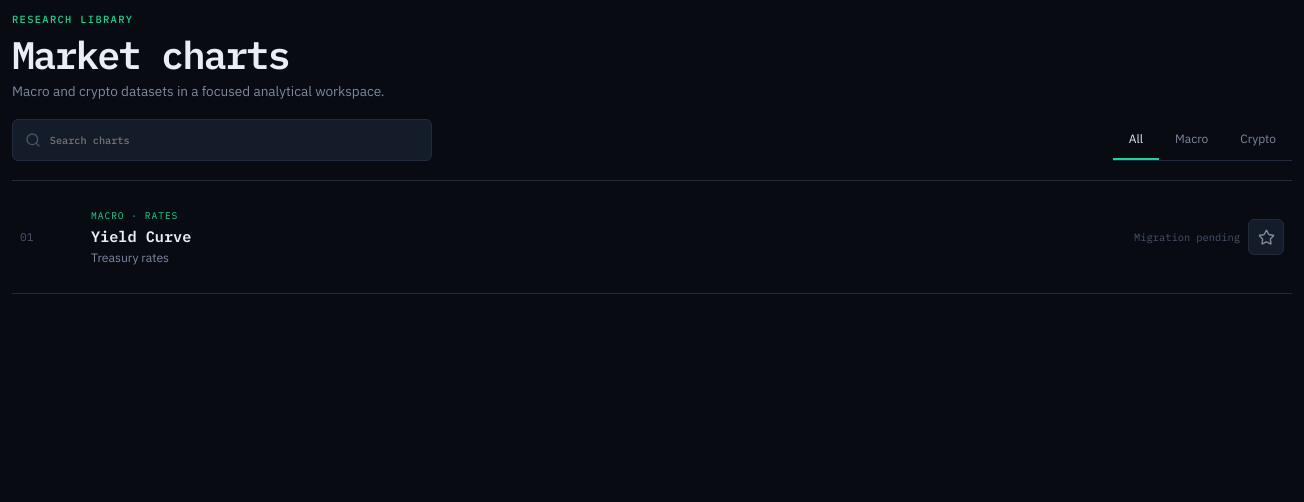
Test: application pages › shows unavailable chart migration state
Click the text "Yield Curve": (141, 236) [91,226,191,246]
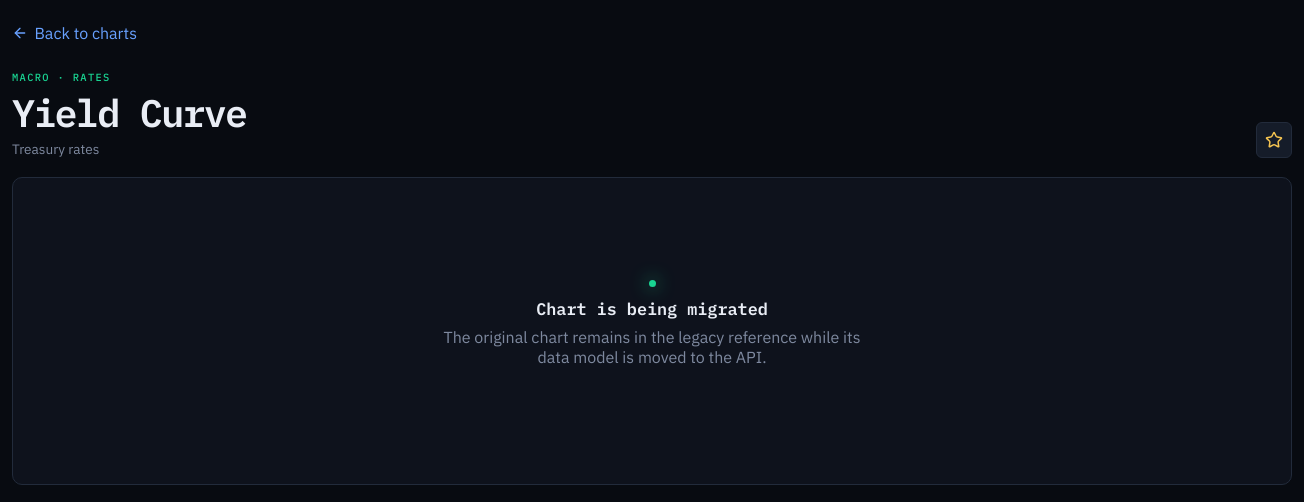
Result: the heading "Chart is being migrated" is shown at [536,299,768,321]
